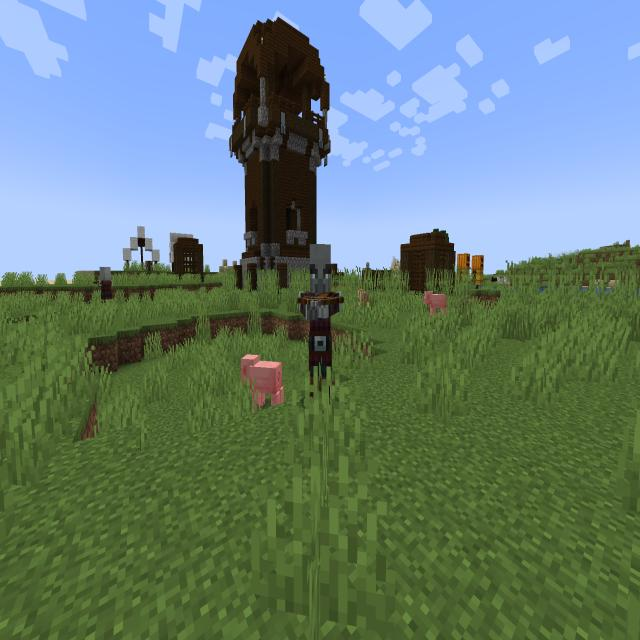pig: (232, 345, 288, 422), (422, 284, 451, 326), (354, 284, 374, 318)
